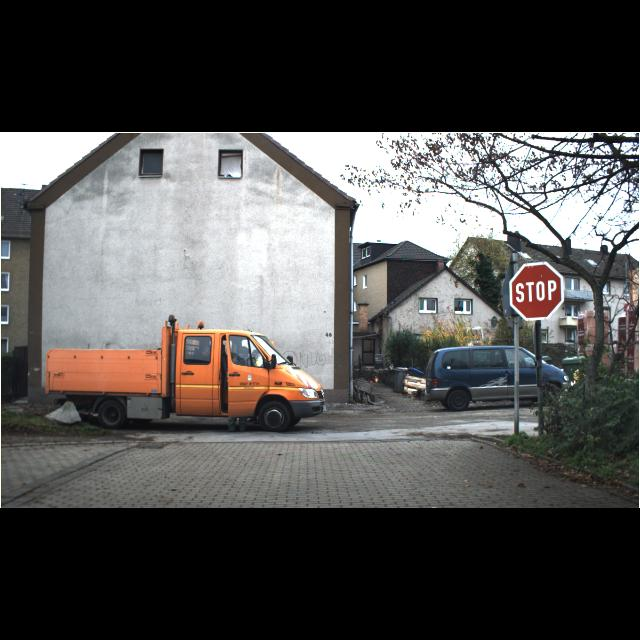other: (508, 261, 564, 321)
